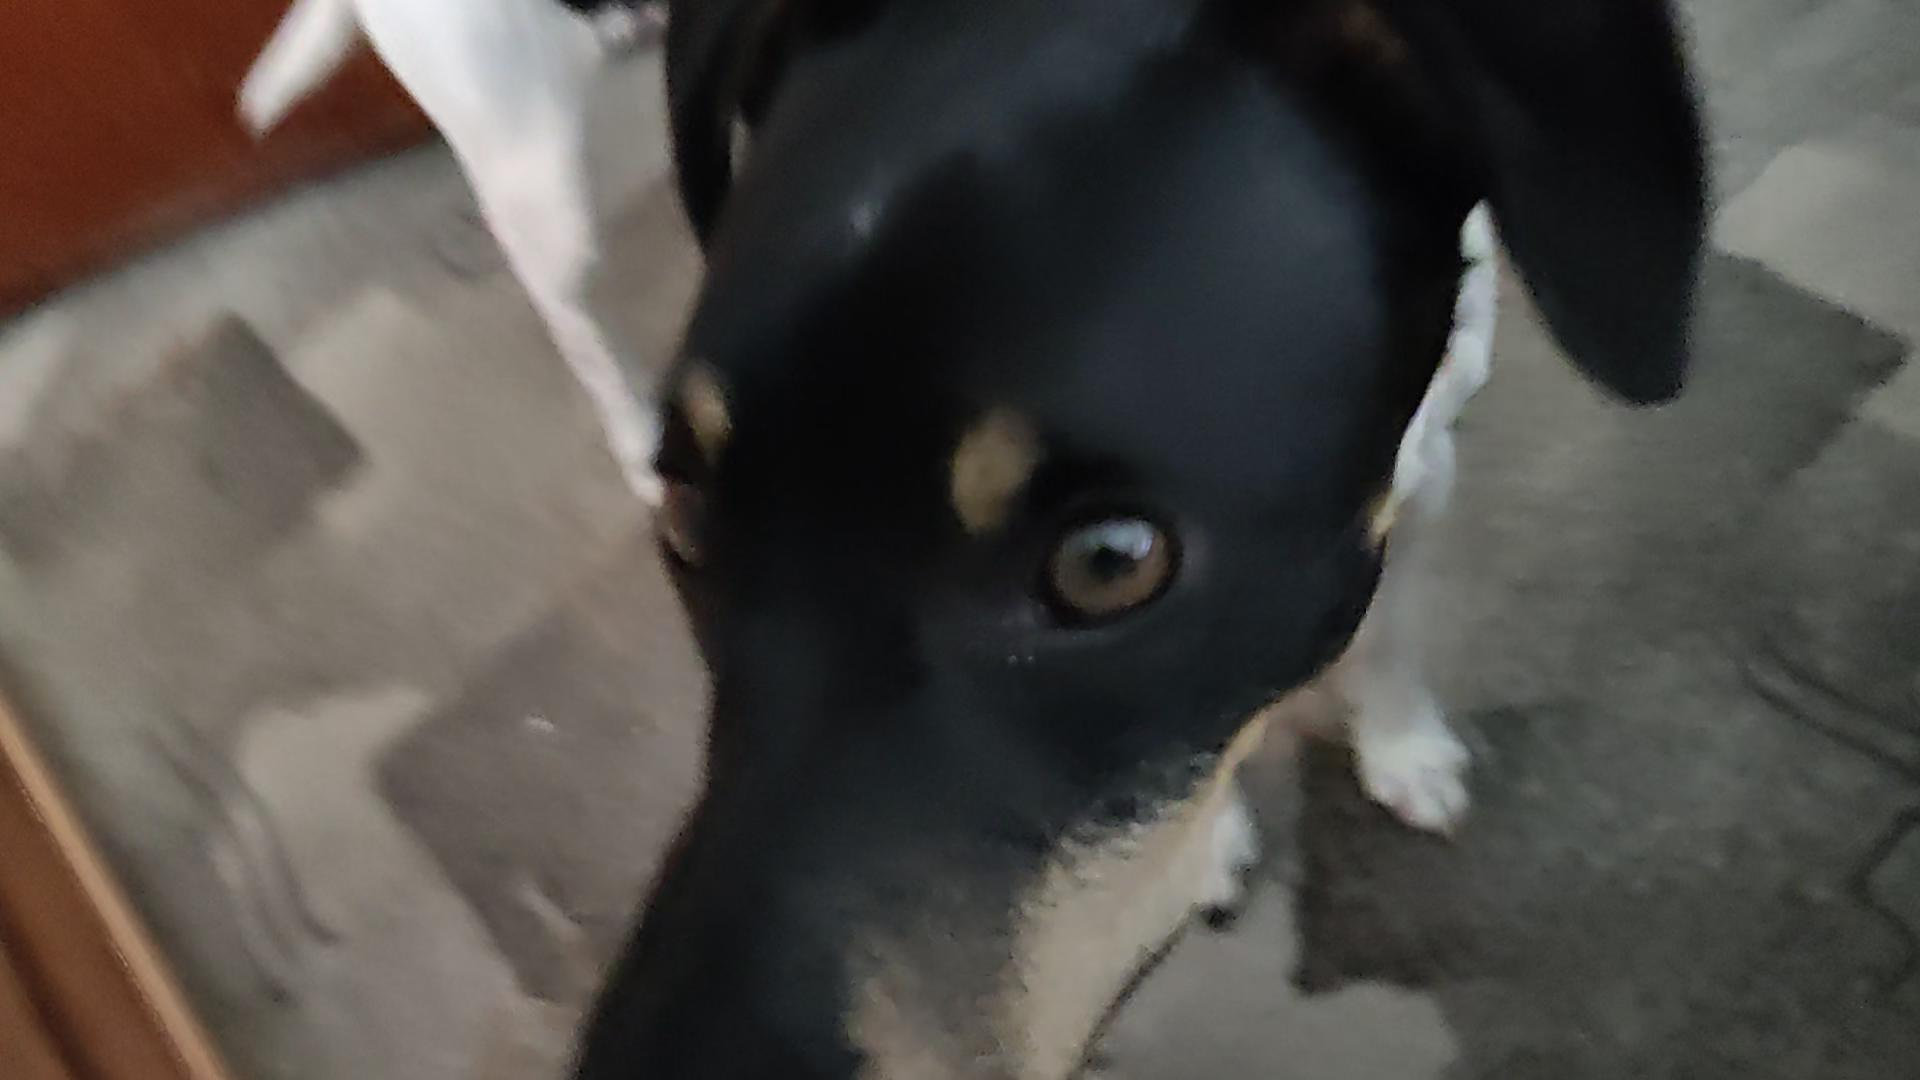Dog: (232, 0, 1734, 1080)
